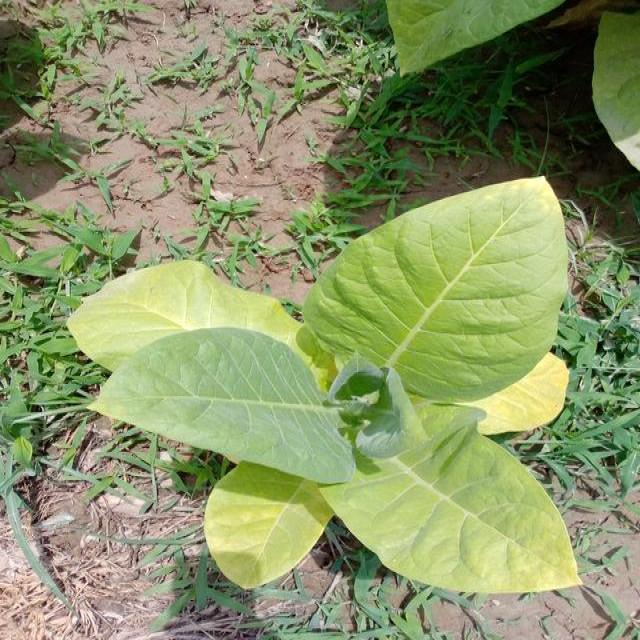crop: (67, 170, 588, 602)
